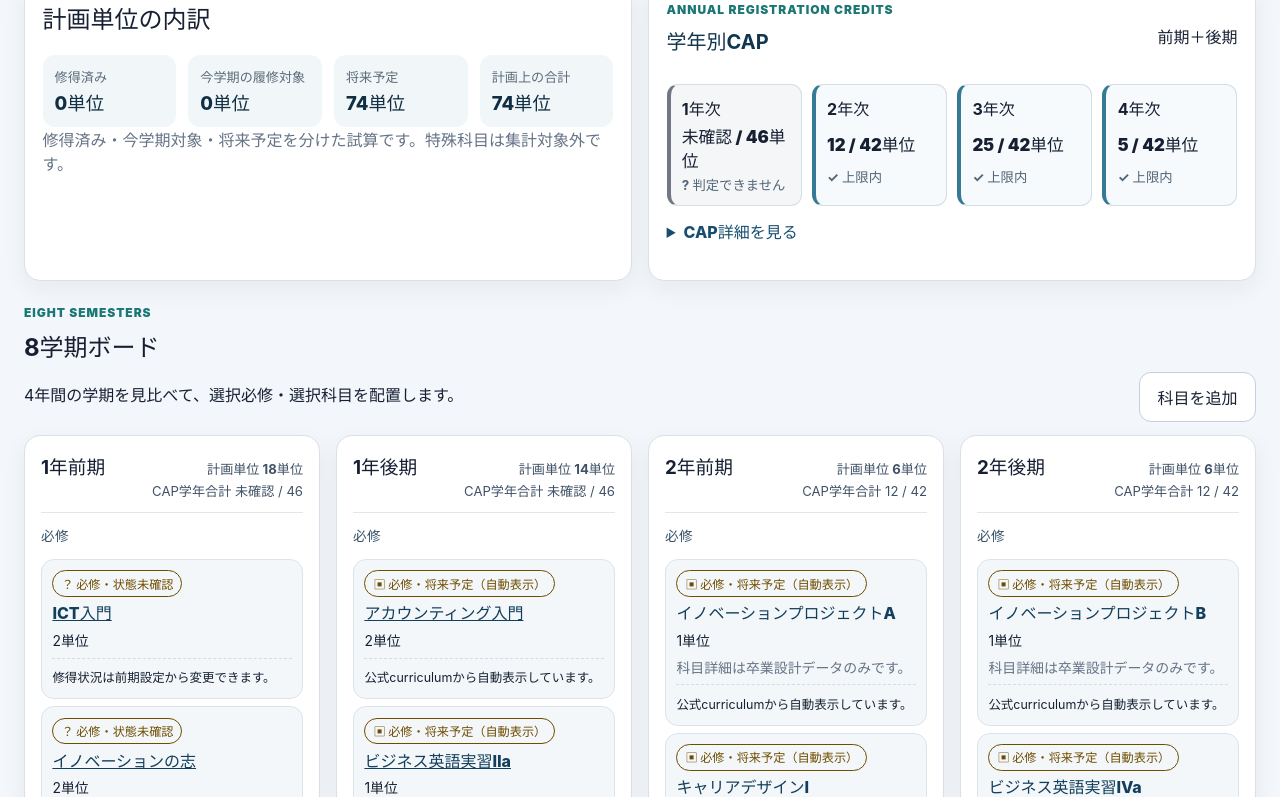
Phase 11 graduation plan UI › 区分フィルターと配置後のsoft warningを表示する
(page scrolled)
Click the button "科目を追加": (1197, 398) x1=1139 y1=372 x2=1256 y2=422
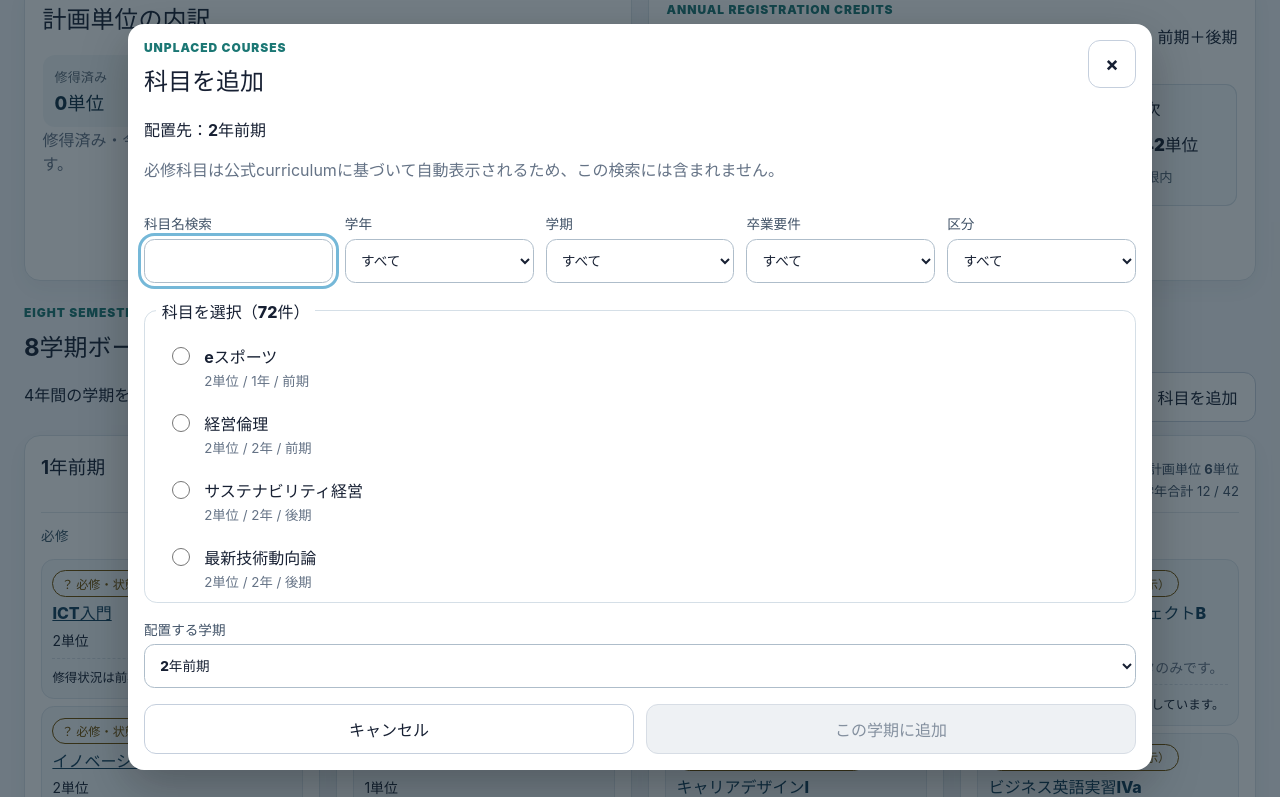
Select "選択必修" in the dropdown labelled "区分": (1042, 260) x1=947 y1=238 x2=1136 y2=282
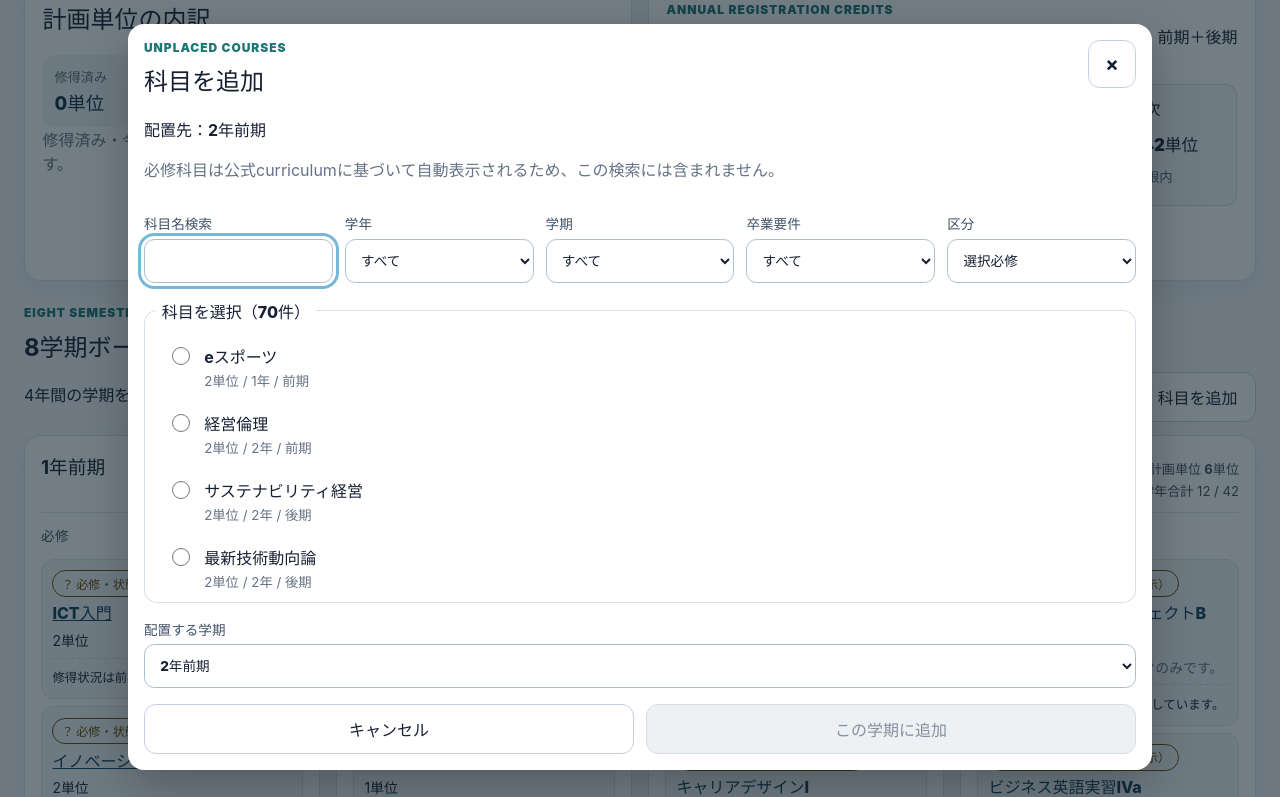
In the search field labelled "科目名検索": (238, 260) x1=144 y1=238 x2=333 y2=282, type "データサイエンス基礎"
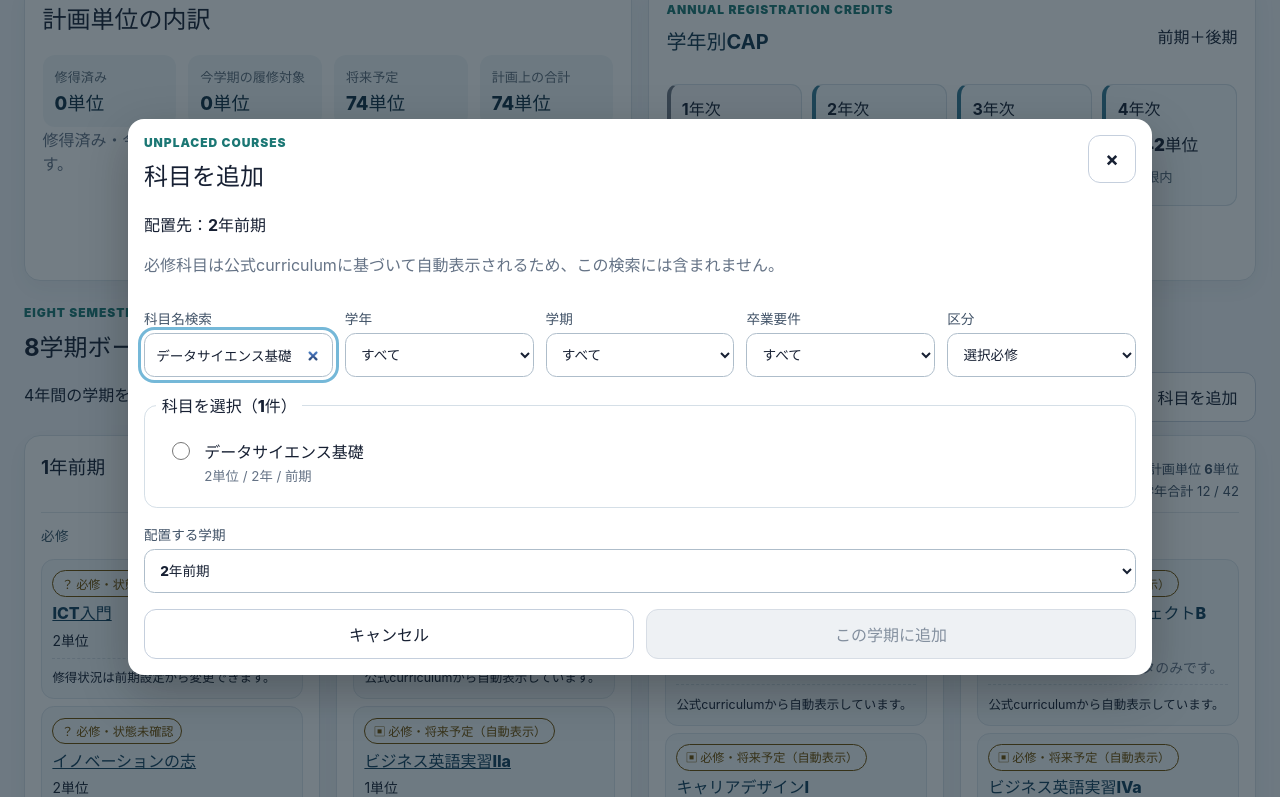
Click the radio button labelled "データサイエンス基礎 2単位 / 2年 / 前期": (181, 451) x1=172 y1=442 x2=190 y2=460
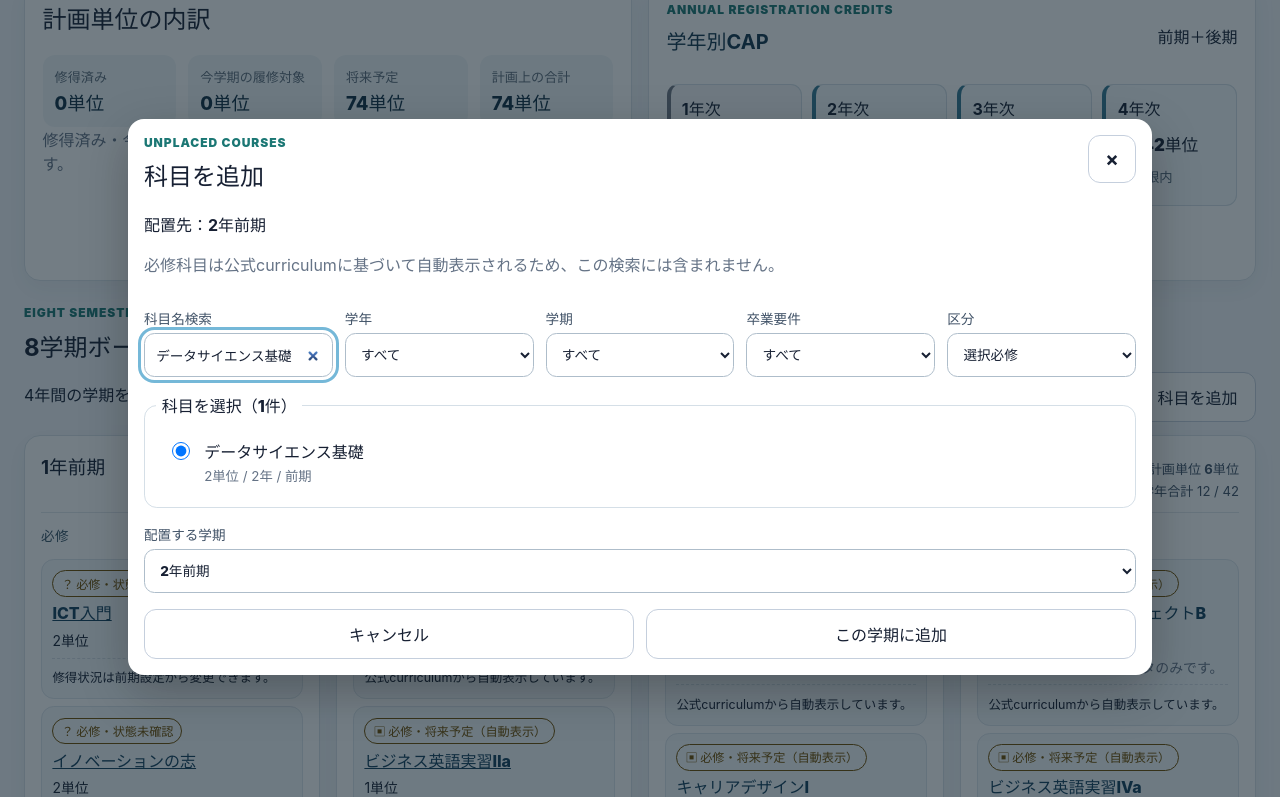
Select "1年後期" in the dropdown labelled "配置する学期": (640, 571) x1=144 y1=549 x2=1136 y2=593
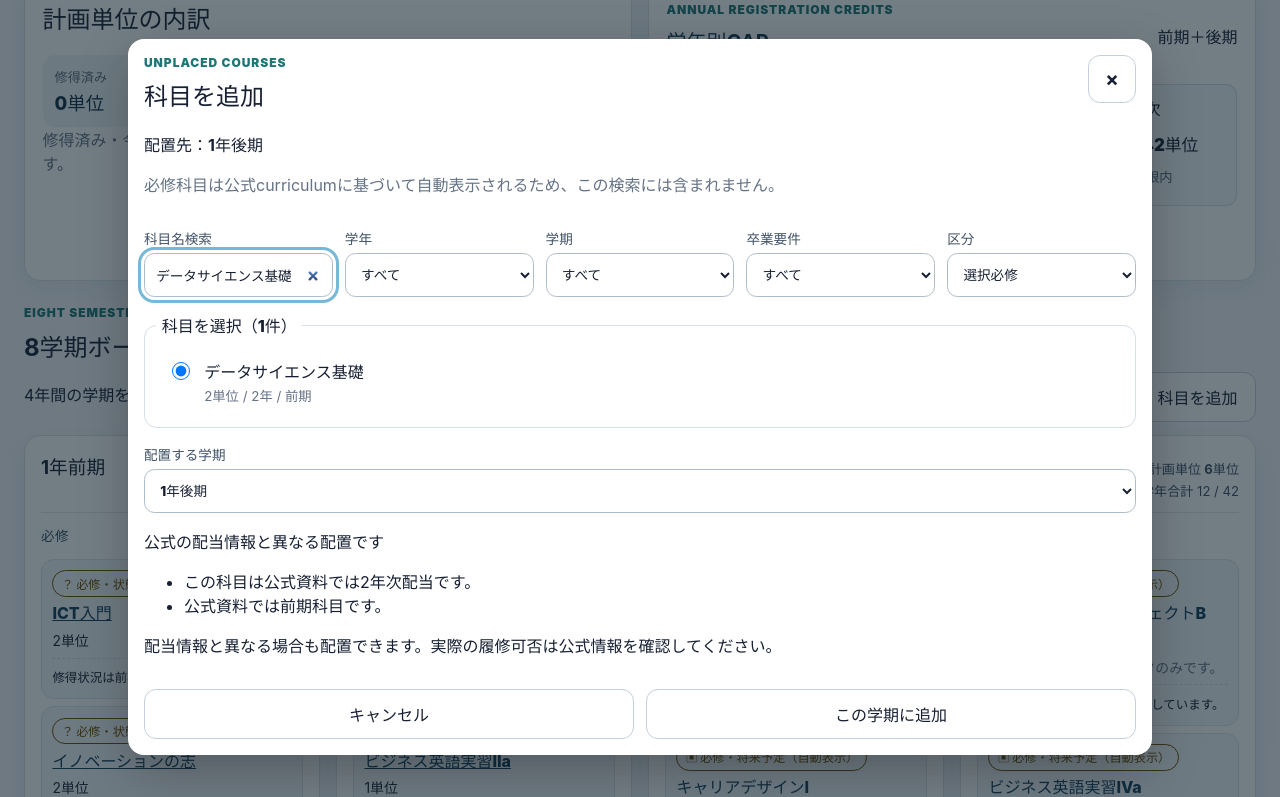
Click the button "この学期に追加": (891, 714) x1=646 y1=689 x2=1136 y2=739
(page scrolled)
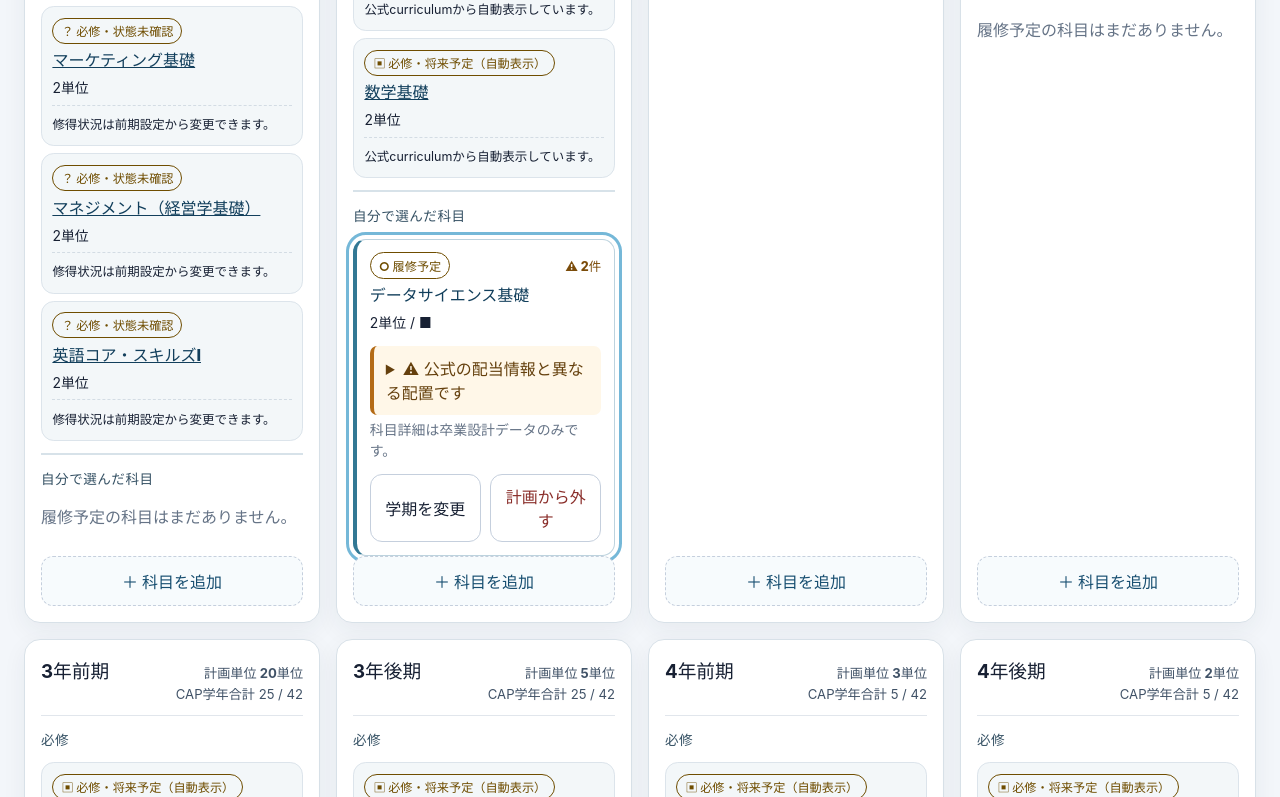
Now the heading "⚠ 公式の配当情報と異なる配置です" is shown, box x1=386 y1=356 x2=589 y2=404
